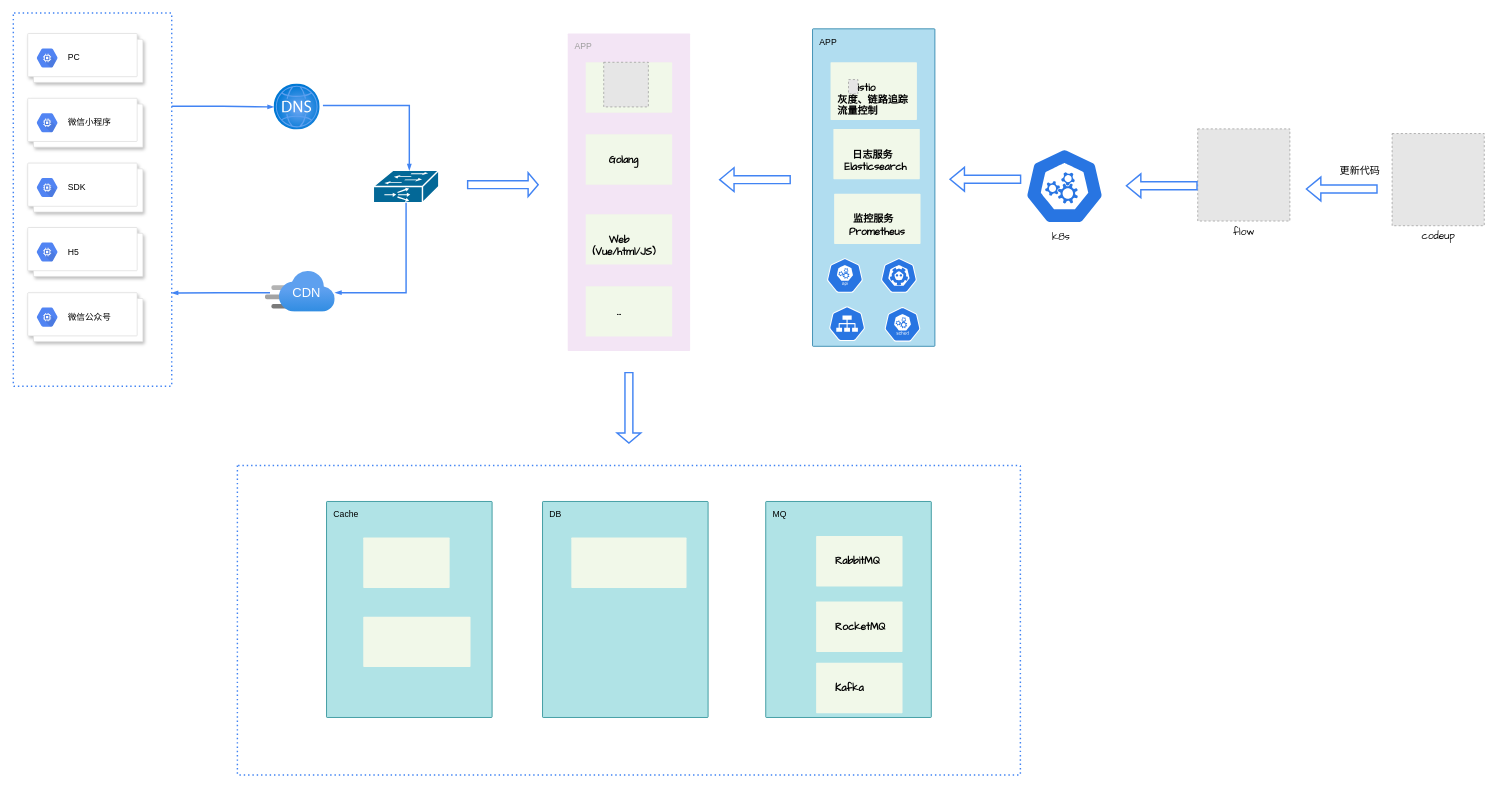
The diagram is 1497 pixels wide and 788 high, and some of its shapes have lost their labels. Grey dashed boxes stand in for pictures. The shapes that lost their labels are listed below. From the top down, each one's centre as x and y in pixels, then its label:
At pixel 405 186: "SLB".
At pixel 406 562: "Redis".
At pixel 628 562: "MySQL M>S、MHA、cluster".
At pixel 416 641: "Redis 主从、哨兵、cluster".
